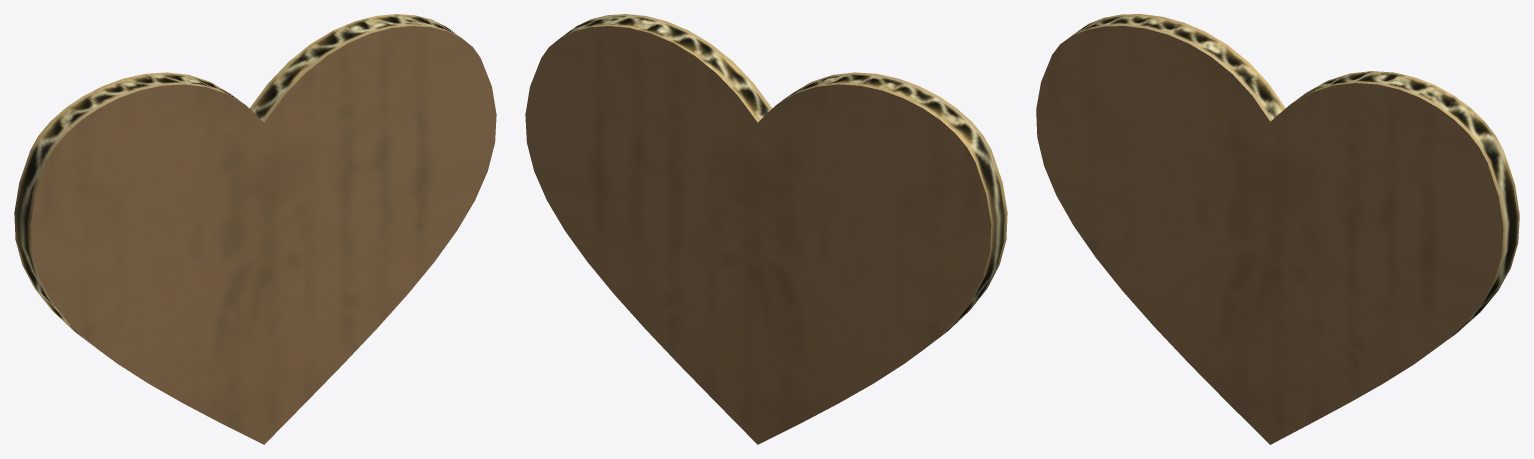
The model's file is cardboard_heart.fbx.
3 views of the same model, side by side, from view 1: azimuth 30°, elevation 25°; view 2: azimuth 150°, elevation 25°; view 3: azimuth 330°, elevation 25° (orthographic).
Visible parts, largest first — view 1: BezierCurve; view 2: BezierCurve; view 3: BezierCurve.
Part boxes in pixels (x1=…): BezierCurve: x1=14, y1=14, x2=496, y2=444; BezierCurve: x1=525, y1=14, x2=1007, y2=444; BezierCurve: x1=1036, y1=14, x2=1519, y2=444.
Size of the model in its own units: 196 by 155 by 11.86.
1 material, 1 textured.
